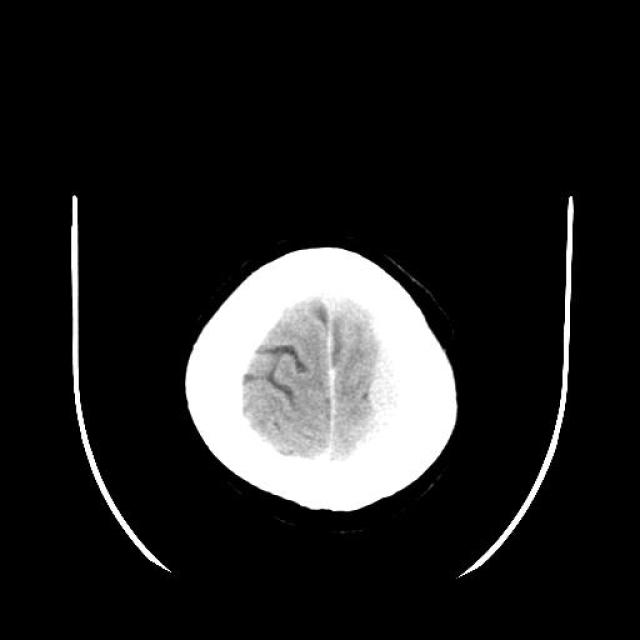Subdural: (339, 328, 436, 438)
